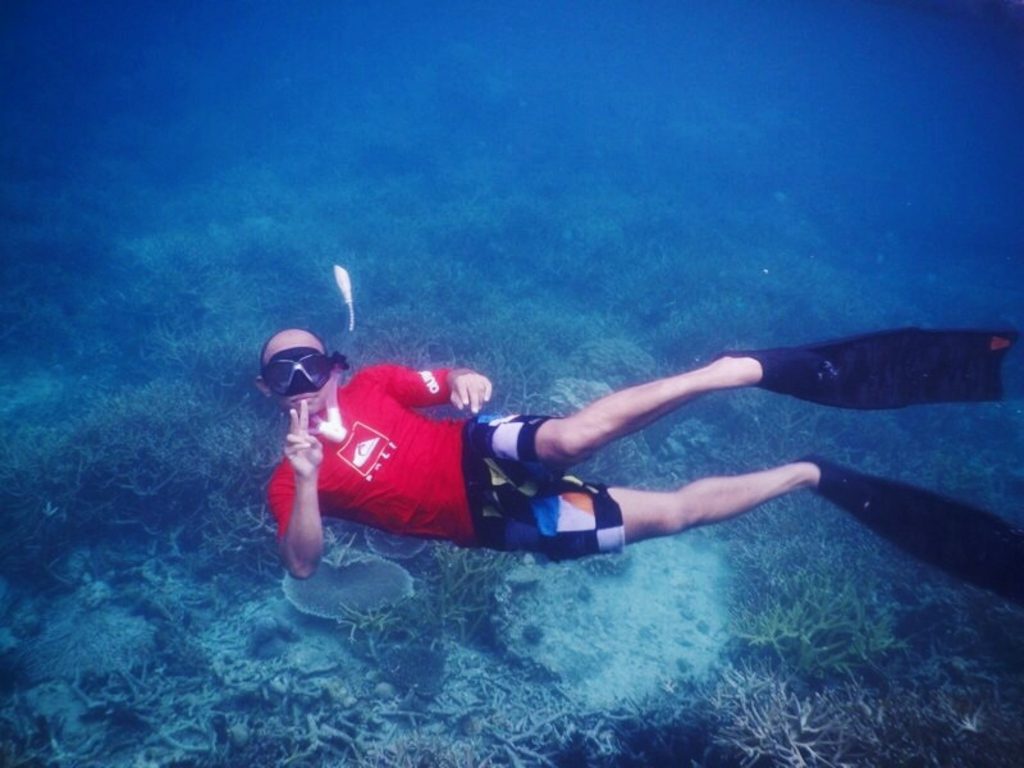Person: (256, 324, 1024, 603)
